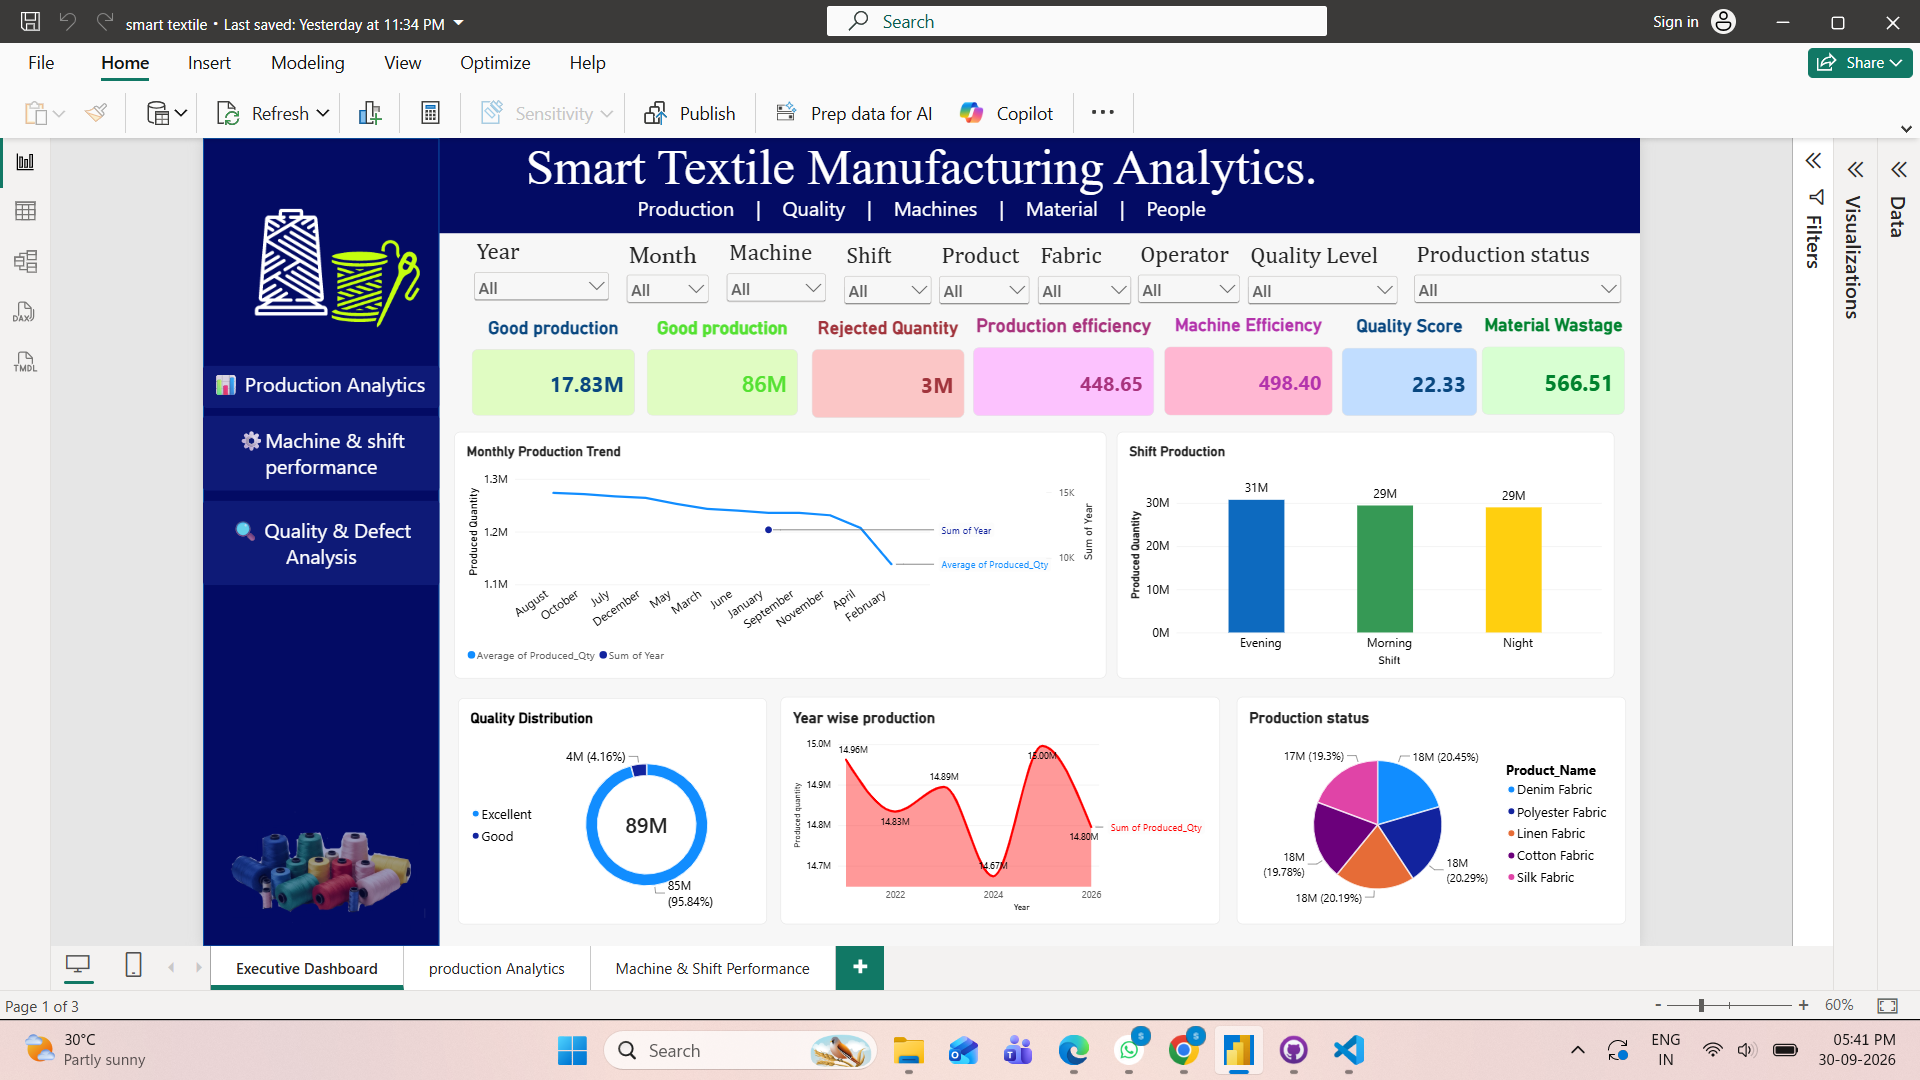

This screenshot's page, from the dashboard's own definition file:
{"tool":"powerbi","page":{"name":"Executive Dashboard ","canvas":[1920,1080],"ordinal":0},"visuals":[{"type":"textbox","box":[1207,24,182,170],"z":0},{"type":"textbox","title":"Smart Textile Manufacturing Analytics.","box":[0,0,1920.1,157.4],"z":1000},{"type":"shape","box":[0,0,315.7,1079.7],"z":2000},{"type":"image","box":[0,900,315.7,158.7],"z":3000},{"type":"image","box":[171.2,119.2,117.3,151.9],"z":4000},{"type":"image","box":[46.2,82.7,142.3,165.4],"z":5000},{"type":"slicer","fields":{"Values":["Month_Analysis.Year"]},"box":[357.6,136,190.1,101.2],"z":6000},{"type":"slicer","fields":{"Values":["Month_Analysis.Month"]},"box":[561.5,138.5,119.2,100],"z":7000},{"type":"slicer","fields":{"Values":["Shift_Analysis.Shift"]},"box":[851.9,140.4,126.9,98.1],"z":8000},{"type":"slicer","fields":{"Values":["Product_Analysis.Product_Name"]},"box":[978.8,140.4,130.8,98.1],"z":9000},{"type":"slicer","fields":{"Values":["Fabric_Analysis.Fabric_Type"]},"box":[1109.6,140.4,134.6,96.2],"z":10000},{"type":"slicer","fields":{"Values":["Operator_Analysis.Operator_ID"]},"box":[1244.2,138.5,146.2,90.4],"z":11000},{"type":"slicer","fields":{"Values":["Quality_Analysis.Quality_Level"]},"box":[1390.4,140.4,209.6,100],"z":12000},{"type":"slicer","fields":{"Values":["Product_Analysis.Produced_Qty"]},"box":[1613.5,138.5,286.5,92.3],"z":13000},{"type":"slicer","fields":{"Values":["Machine_Analysis.Machine_ID"]},"box":[694.2,136.5,142.3,109.6],"z":14000},{"type":"cardVisual","title":"Quality Score","fields":{"Data":["Sum(Defect_Analysis.Defect_Rate)"]},"box":[1520.9,237.2,181.4,134.3],"z":15000},{"type":"cardVisual","title":"Material Wastage","fields":{"Data":["Sum(Machine_Analysis.Quality_Score)"]},"box":[1707.6,235.5,191.9,134.3],"z":16000},{"type":"cardVisual","title":"Good production","fields":{"Data":["Sum(Product_Analysis.Good_Qty)"]},"box":[593,239,202.3,132.6],"z":17000},{"type":"cardVisual","title":"Rejected Quantity","fields":{"Data":["Sum(Product_Analysis.Rejected_Qty)"]},"box":[812.8,239,204.1,136],"z":18000},{"type":"cardVisual","title":"Production efficiency ","fields":{"Data":["Sum(Product_Analysis.Production_Efficiency)"]},"box":[1029.1,235.5,242.4,136],"z":19000},{"type":"cardVisual","title":"Machine Efficiency ","fields":{"Data":["Sum(Machine_Analysis.Machine_Efficiency)"]},"box":[1283.7,235.5,225,136],"z":20000},{"type":"cardVisual","title":"Good production","fields":{"Data":["Avg(Product_Analysis.Produced_Qty)"]},"box":[359.3,239,218,132.6],"z":21000},{"type":"lineChart","title":"Monthly Production Trend","fields":{"Y":["Avg(Month_Analysis.Produced_Qty)"],"Category":["Month_Analysis.Month_Name"],"Y2":["Sum(Month_Analysis.Year)"]},"box":[336.2,392.8,871.4,329.7],"z":22000},{"type":"columnChart","title":"Shift Production","fields":{"Category":["Shift_Analysis.Shift"],"Y":["Sum(Shift_Analysis.Produced_Qty)"]},"box":[1221.1,393.1,664.9,329.7],"z":23000},{"type":"donutChart","title":"Quality Distribution","fields":{"Category":["Quality_Analysis.Quality_Level"],"Y":["Sum(Quality_Analysis.Produced_Qty)"]},"box":[340.6,748.2,413.1,302.5],"z":24000},{"type":"areaChart","title":"Year wise production","fields":{"Y":["Sum(Year_Analysis.Produced_Qty)"],"Category":["Year_Analysis.Year"]},"box":[771.8,746.4,587,304.4],"z":25000},{"type":"pieChart","title":"Production status","fields":{"Y":["Sum(Product_Analysis.Produced_Qty)"],"Category":["Product_Analysis.Product_Name"],"Series":["Product_Analysis.Production_Efficiency"]},"box":[1380.5,746.4,519.9,304.4],"z":26000},{"type":"textbox","box":[100,100,300,300],"z":27000},{"type":"actionButton","box":[0,303.3,316.1,56.6],"z":28000},{"type":"actionButton","box":[0,370.9,316.1,100.5],"z":28001},{"type":"actionButton","box":[0,484.2,316.1,113.3],"z":28002}]}

Visuals, with their boxes on the page's 1920x1080 design canvas (x1, y1, x2, y2). These are canvas units, not pixel positions in the 1920x1080 screenshot, which may show the page scaled, cropped or inside an application window:
textbox: region(1207, 24, 1389, 194)
"Smart Textile Manufacturing Analytics." textbox: region(0, 0, 1920, 157)
shape: region(0, 0, 316, 1080)
image: region(0, 900, 316, 1059)
image: region(171, 119, 288, 271)
image: region(46, 83, 188, 248)
slicer - Month_Analysis.Year: region(358, 136, 548, 237)
slicer - Month_Analysis.Month: region(562, 138, 681, 238)
slicer - Shift_Analysis.Shift: region(852, 140, 979, 238)
slicer - Product_Analysis.Product_Name: region(979, 140, 1110, 238)
slicer - Fabric_Analysis.Fabric_Type: region(1110, 140, 1244, 237)
slicer - Operator_Analysis.Operator_ID: region(1244, 138, 1390, 229)
slicer - Quality_Analysis.Quality_Level: region(1390, 140, 1600, 240)
slicer - Product_Analysis.Produced_Qty: region(1614, 138, 1900, 231)
slicer - Machine_Analysis.Machine_ID: region(694, 136, 836, 246)
"Quality Score" cardVisual: region(1521, 237, 1702, 372)
"Material Wastage" cardVisual: region(1708, 236, 1900, 370)
"Good production" cardVisual: region(593, 239, 795, 372)
"Rejected Quantity" cardVisual: region(813, 239, 1017, 375)
"Production efficiency " cardVisual: region(1029, 236, 1272, 372)
"Machine Efficiency " cardVisual: region(1284, 236, 1509, 372)
"Good production" cardVisual: region(359, 239, 577, 372)
"Monthly Production Trend" lineChart: region(336, 393, 1208, 722)
"Shift Production" columnChart: region(1221, 393, 1886, 723)
"Quality Distribution" donutChart: region(341, 748, 754, 1051)
"Year wise production" areaChart: region(772, 746, 1359, 1051)
"Production status" pieChart: region(1380, 746, 1900, 1051)
textbox: region(100, 100, 400, 400)
actionButton: region(0, 303, 316, 360)
actionButton: region(0, 371, 316, 471)
actionButton: region(0, 484, 316, 598)
